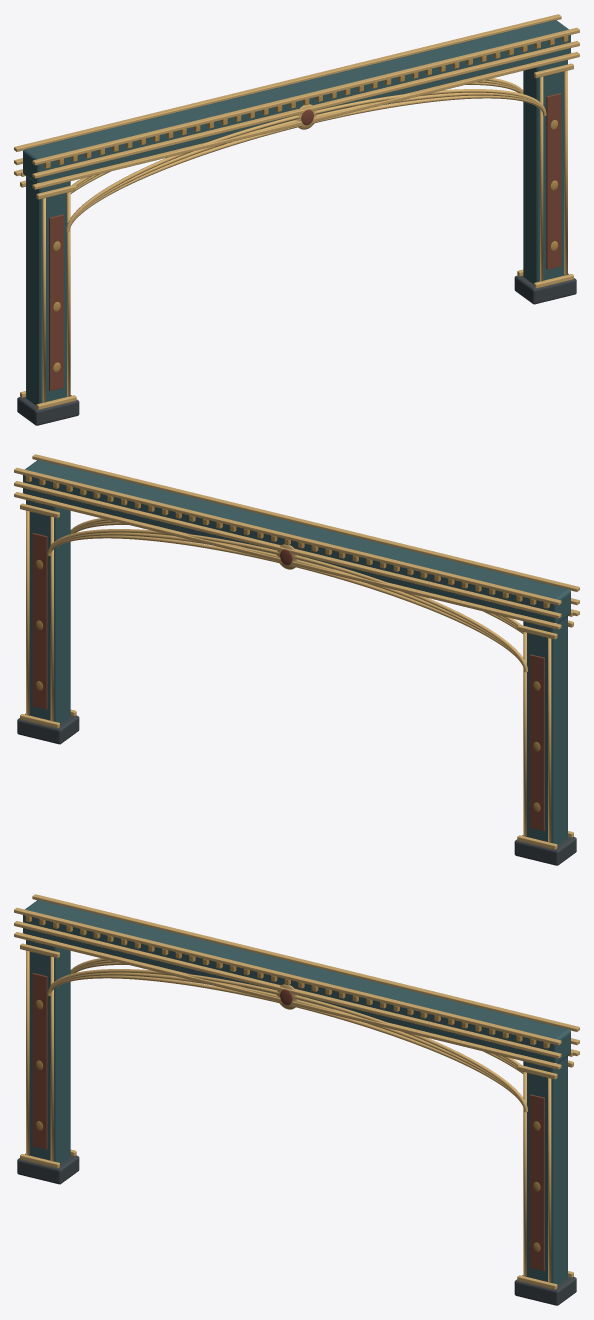
The model's file is arch.gltf.
3 renders of one model, top to bottom at view 1: azimuth 30°, elevation 25°; view 2: azimuth 150°, elevation 25°; view 3: azimuth 330°, elevation 25°, orthographic.
Visible parts, largest first — view 1: arch; view 2: arch; view 3: arch.
Boxes of the visible parts, x1,y1,x2,y2 form: arch: [14, 14, 579, 425]; arch: [14, 454, 579, 865]; arch: [14, 894, 579, 1305].
Size of the model in its own units: 16 by 7.45 by 1.14.
